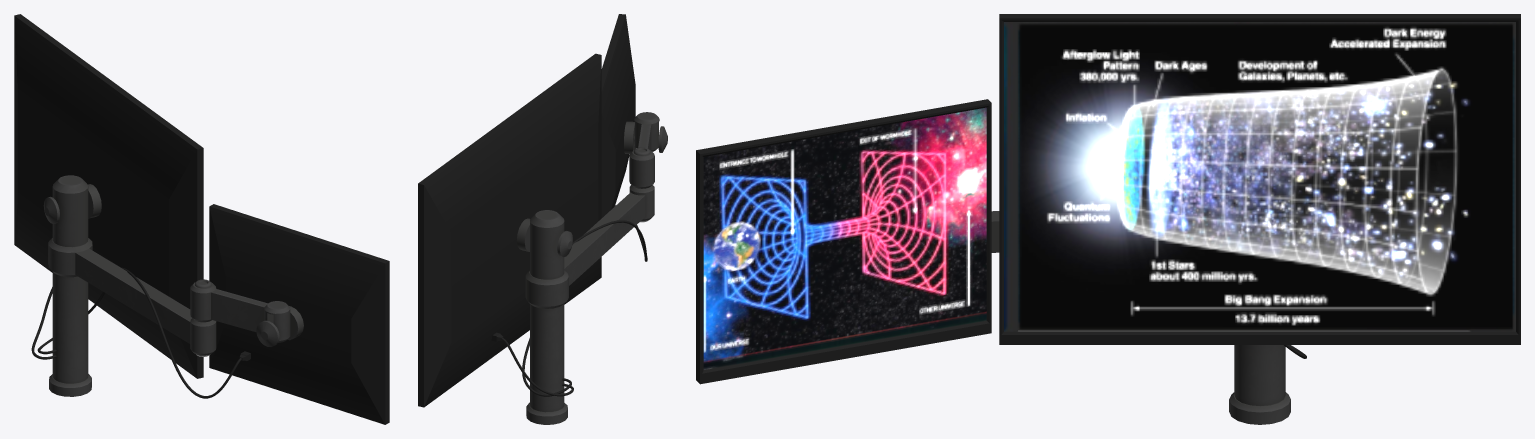
Rendered from DisplayMoniter.fbx.
3 views of the same model, side by side, from view 1: azimuth 30°, elevation 25°; view 2: azimuth 150°, elevation 25°; view 3: azimuth 270°, elevation 25° (orthographic). The views are drawn at different scales.
Visible parts, largest first — view 1: DisplayMoniter; view 2: DisplayMoniter; view 3: DisplayMoniter.
Boxes of the visible parts, x1=… form: DisplayMoniter: x1=14, y1=14, x2=389, y2=424; DisplayMoniter: x1=418, y1=14, x2=667, y2=424; DisplayMoniter: x1=696, y1=14, x2=1520, y2=424.
Bounding box in the file's own units: 32.55 × 60.22 × 107.
